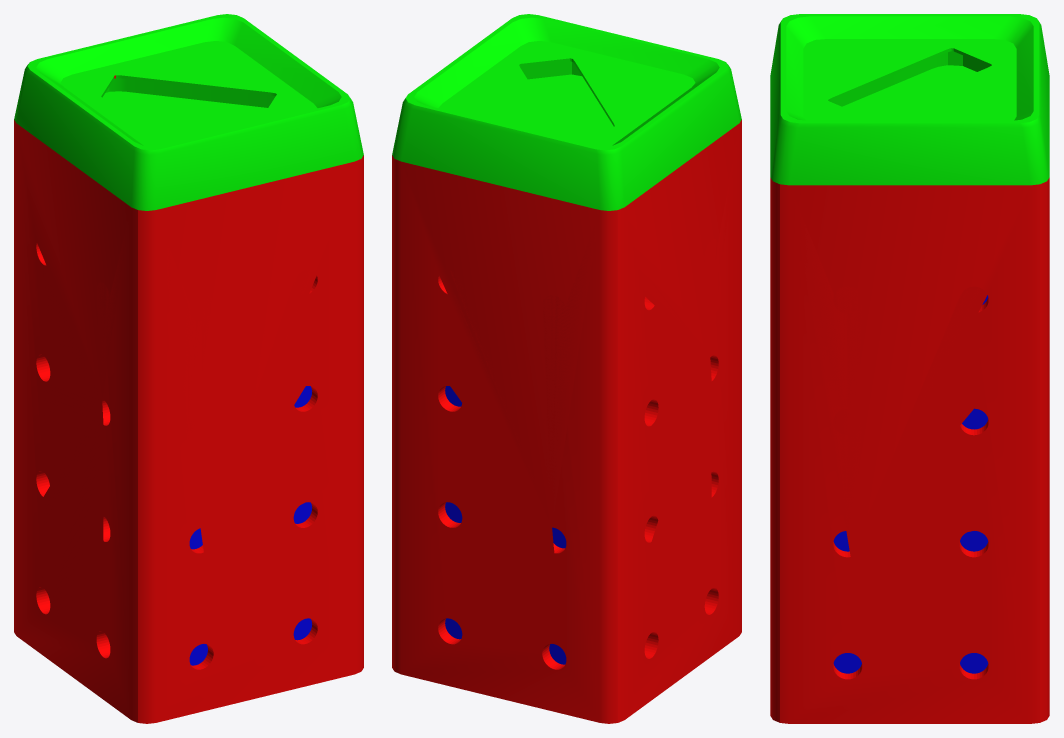
The model's file is Trashcan2.fbx.
3 renders of one model, left to right at view 1: azimuth 30°, elevation 25°; view 2: azimuth 150°, elevation 25°; view 3: azimuth 270°, elevation 25°, orthographic. The views are drawn at different scales.
Visible parts, largest first — view 1: Cube.001; view 2: Cube.001; view 3: Cube.001.
Boxes of the visible parts, <box> form: Cube.001: <box>14,14,363,723</box>; Cube.001: <box>392,14,741,723</box>; Cube.001: <box>770,14,1049,723</box>.
Bounding box in the file's own units: 38.18 × 38.18 × 89.99.
